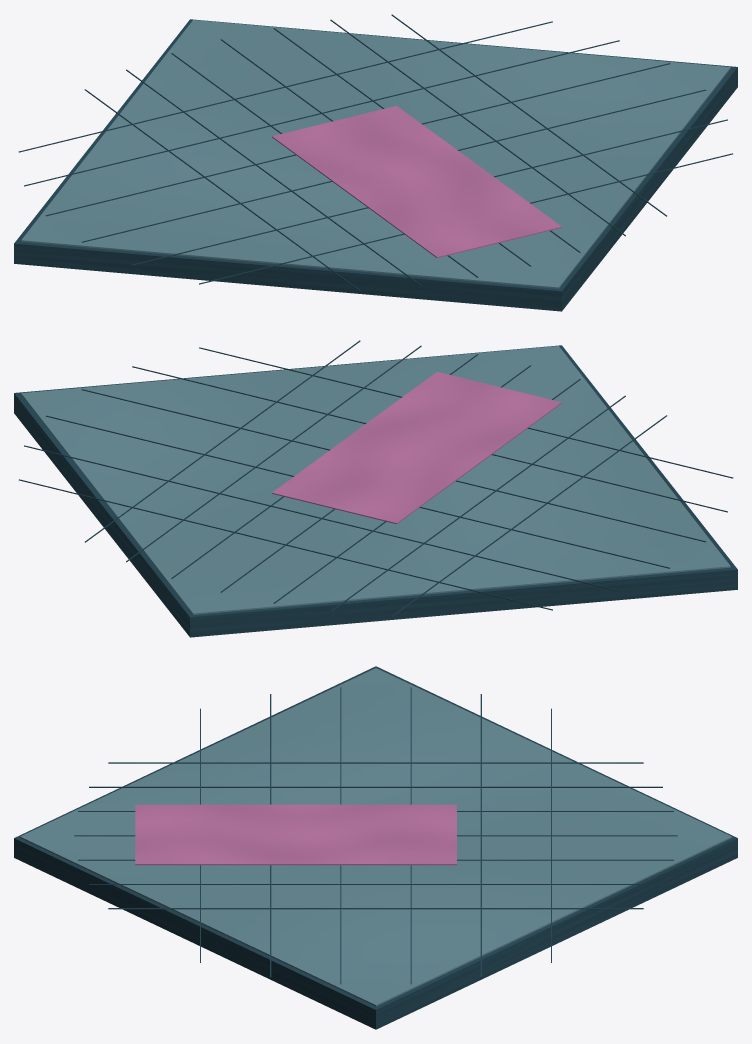
File: atlas100-s066-a07.lod2.glb
3 renders of one model, top to bottom at view 1: azimuth 30°, elevation 25°; view 2: azimuth 150°, elevation 25°; view 3: azimuth 270°, elevation 25°, orthographic. The views are drawn at different scales.
Visible parts, largest first — view 1: atlas100-s066-a07:part-001, atlas100-s066-a07:part-021, atlas100-s066-a07:part-000, atlas100-s066-a07:part-015, atlas100-s066-a07:part-014, atlas100-s066-a07:part-016, atlas100-s066-a07:part-017, atlas100-s066-a07:part-018, atlas100-s066-a07:part-019, atlas100-s066-a07:part-009, atlas100-s066-a07:part-005, atlas100-s066-a07:part-004 (+1 smaller); view 2: atlas100-s066-a07:part-001, atlas100-s066-a07:part-021, atlas100-s066-a07:part-000, atlas100-s066-a07:part-015, atlas100-s066-a07:part-014, atlas100-s066-a07:part-017, atlas100-s066-a07:part-016, atlas100-s066-a07:part-018, atlas100-s066-a07:part-019, atlas100-s066-a07:part-005, atlas100-s066-a07:part-009, atlas100-s066-a07:part-004 (+1 smaller); view 3: atlas100-s066-a07:part-001, atlas100-s066-a07:part-021, atlas100-s066-a07:part-000, atlas100-s066-a07:part-005, atlas100-s066-a07:part-004, atlas100-s066-a07:part-010.
Boxes of the visible parts, x1=… form: atlas100-s066-a07:part-001: x1=21, y1=20, x2=730, y2=288; atlas100-s066-a07:part-021: x1=272, y1=106, x2=561, y2=258; atlas100-s066-a07:part-000: x1=14, y1=19, x2=737, y2=311; atlas100-s066-a07:part-015: x1=24, y1=40, x2=619, y2=186; atlas100-s066-a07:part-014: x1=18, y1=21, x2=552, y2=152; atlas100-s066-a07:part-016: x1=45, y1=63, x2=670, y2=216; atlas100-s066-a07:part-017: x1=82, y1=89, x2=706, y2=242; atlas100-s066-a07:part-018: x1=132, y1=119, x2=727, y2=265; atlas100-s066-a07:part-019: x1=199, y1=153, x2=732, y2=284; atlas100-s066-a07:part-009: x1=330, y1=19, x2=625, y2=236; atlas100-s066-a07:part-005: x1=126, y1=69, x2=421, y2=285; atlas100-s066-a07:part-004: x1=84, y1=89, x2=360, y2=291; atlas100-s066-a07:part-001: x1=21, y1=346, x2=730, y2=614; atlas100-s066-a07:part-021: x1=272, y1=372, x2=561, y2=524; atlas100-s066-a07:part-000: x1=14, y1=345, x2=737, y2=637; atlas100-s066-a07:part-015: x1=24, y1=445, x2=619, y2=591; atlas100-s066-a07:part-014: x1=19, y1=479, x2=552, y2=610; atlas100-s066-a07:part-017: x1=81, y1=389, x2=706, y2=542; atlas100-s066-a07:part-016: x1=45, y1=415, x2=669, y2=568; atlas100-s066-a07:part-018: x1=132, y1=366, x2=727, y2=512; atlas100-s066-a07:part-019: x1=199, y1=347, x2=733, y2=478; atlas100-s066-a07:part-005: x1=330, y1=395, x2=625, y2=611; atlas100-s066-a07:part-009: x1=126, y1=345, x2=421, y2=562; atlas100-s066-a07:part-004: x1=391, y1=415, x2=667, y2=617; atlas100-s066-a07:part-001: x1=20, y1=668, x2=731, y2=1006; atlas100-s066-a07:part-021: x1=135, y1=804, x2=456, y2=865; atlas100-s066-a07:part-000: x1=14, y1=666, x2=737, y2=1029; atlas100-s066-a07:part-005: x1=89, y1=786, x2=662, y2=787; atlas100-s066-a07:part-004: x1=108, y1=762, x2=643, y2=763; atlas100-s066-a07:part-010: x1=108, y1=908, x2=643, y2=909.
Bounding box in the file's own units: 12.75 × 0.404 × 11.34.
3 materials, 3 textured.
